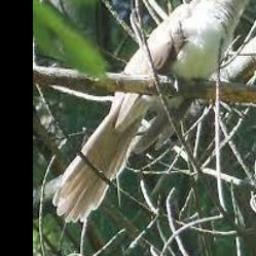Cuckoo: (52, 0, 256, 222)
